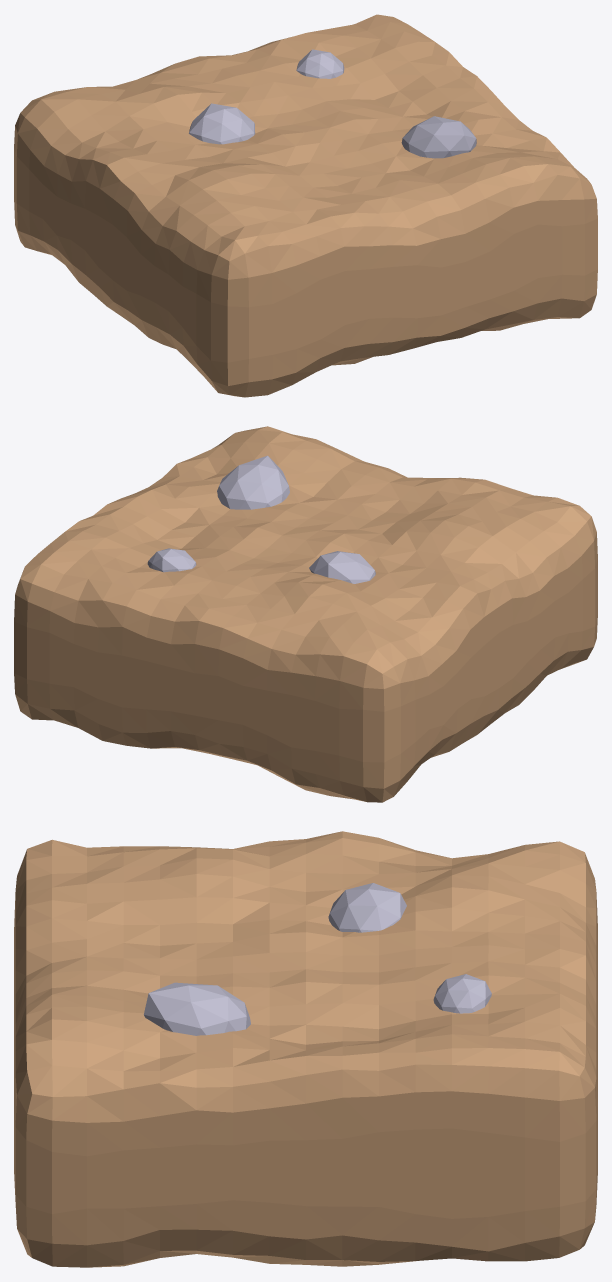
File: dirt1highlighted.fbx
The picture shows the model from 3 angles, top to bottom: view 1: azimuth 30°, elevation 25°; view 2: azimuth 150°, elevation 25°; view 3: azimuth 270°, elevation 25°; orthographic projection. The views are drawn at different scales.
Parts seen in each view (by area): view 1: Cube, Icosphere, Icosphere.001, Icosphere.002; view 2: Cube, Icosphere, Icosphere.001, Icosphere.002; view 3: Cube, Icosphere, Icosphere.001, Icosphere.002.
Part boxes in pixels (left/top/right/bottom): Cube: left=14, top=14, right=597, bottom=397; Icosphere: left=401, top=116, right=476, bottom=158; Icosphere.001: left=189, top=103, right=255, bottom=144; Icosphere.002: left=296, top=49, right=344, bottom=78; Cube: left=14, top=426, right=597, bottom=802; Icosphere: left=217, top=455, right=289, bottom=509; Icosphere.001: left=309, top=551, right=375, bottom=583; Icosphere.002: left=147, top=548, right=196, bottom=572; Cube: left=14, top=831, right=597, bottom=1267; Icosphere: left=143, top=982, right=250, bottom=1035; Icosphere.001: left=328, top=883, right=406, bottom=932; Icosphere.002: left=433, top=974, right=491, bottom=1013.
Bounding box in the file's own units: 200 × 88.99 × 200.
